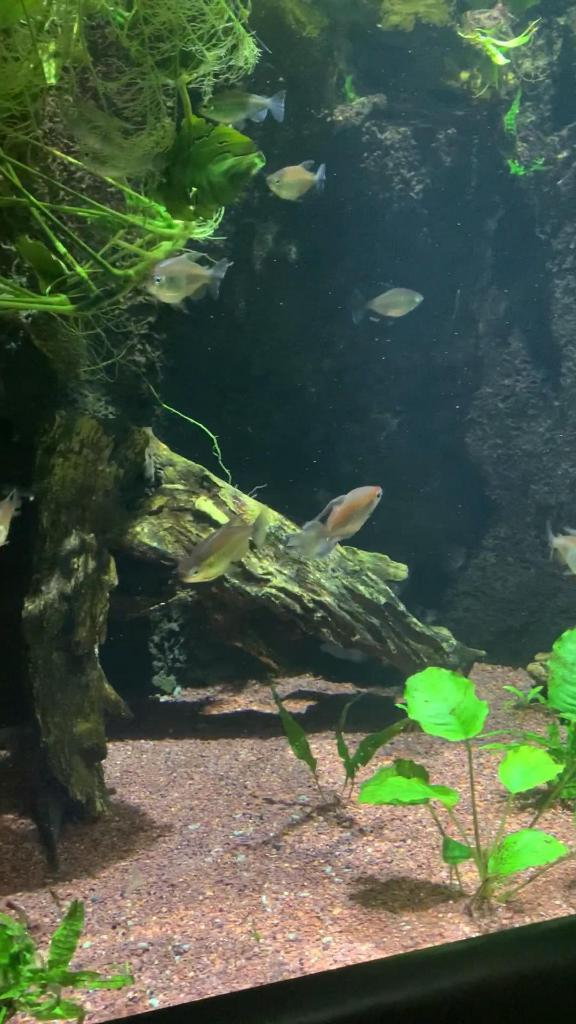fish: (284, 482, 385, 564), (178, 506, 266, 586), (137, 250, 233, 312), (196, 84, 290, 136), (264, 156, 330, 206), (541, 514, 575, 588), (348, 287, 426, 319), (0, 485, 25, 553)
